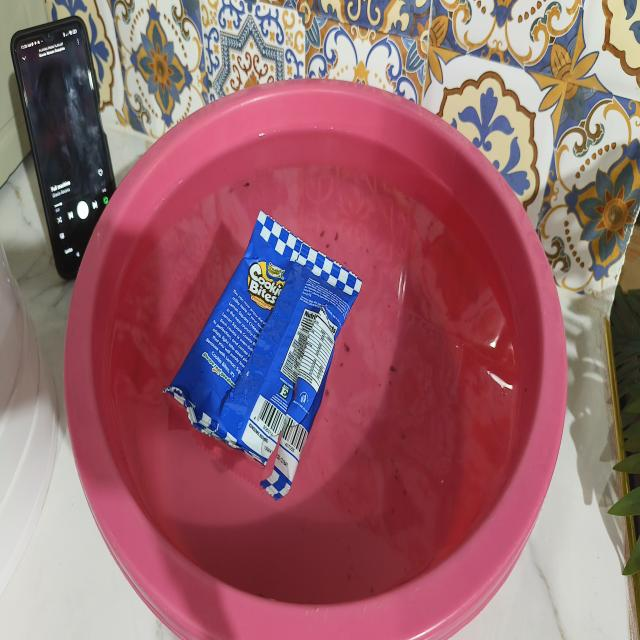Plastic Wrapper: (163, 211, 362, 499)
